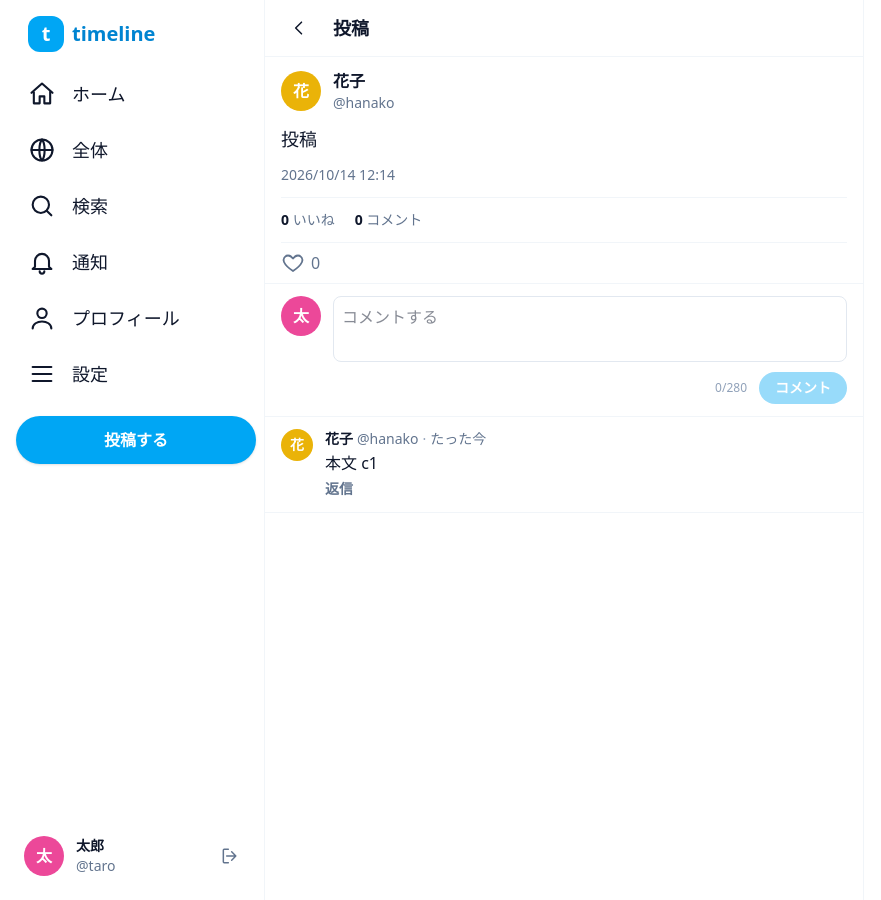
it: コメント › コメントと返信を送ると、送った内容でコメント欄を取り直す
Type "  はじめまして  " into the text box named "コメントの本文". click: (590, 329)
box: [333,296,847,362]
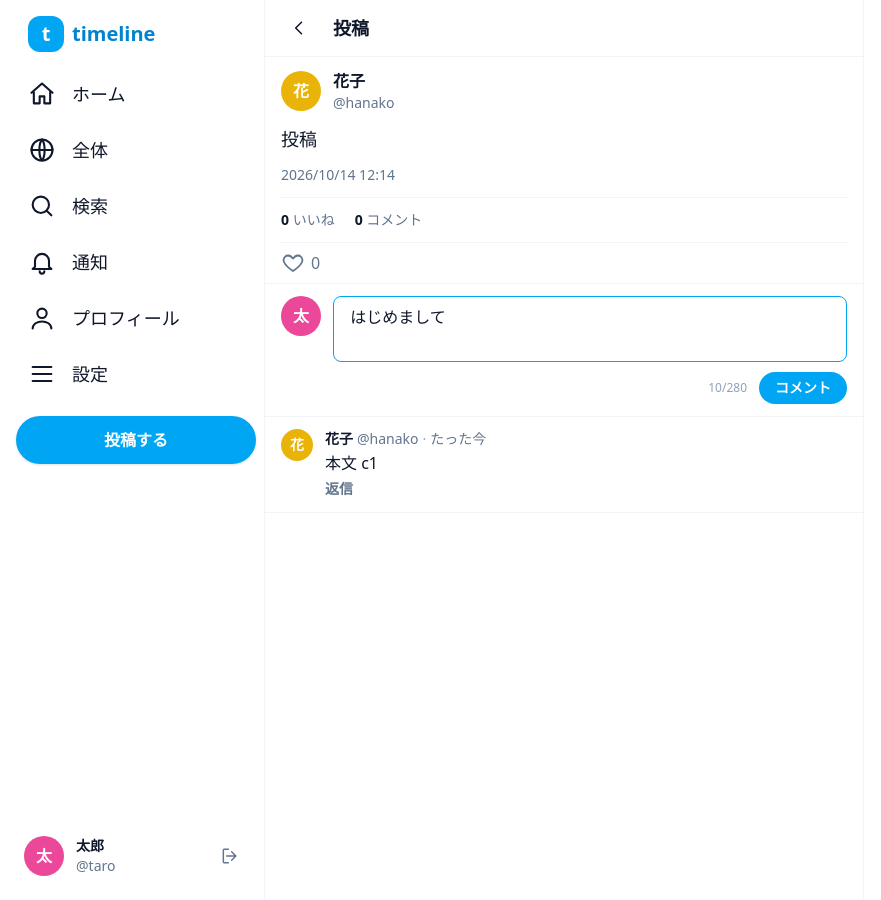
Click the button "コメント". click: (803, 388)
box: [759,372,847,404]
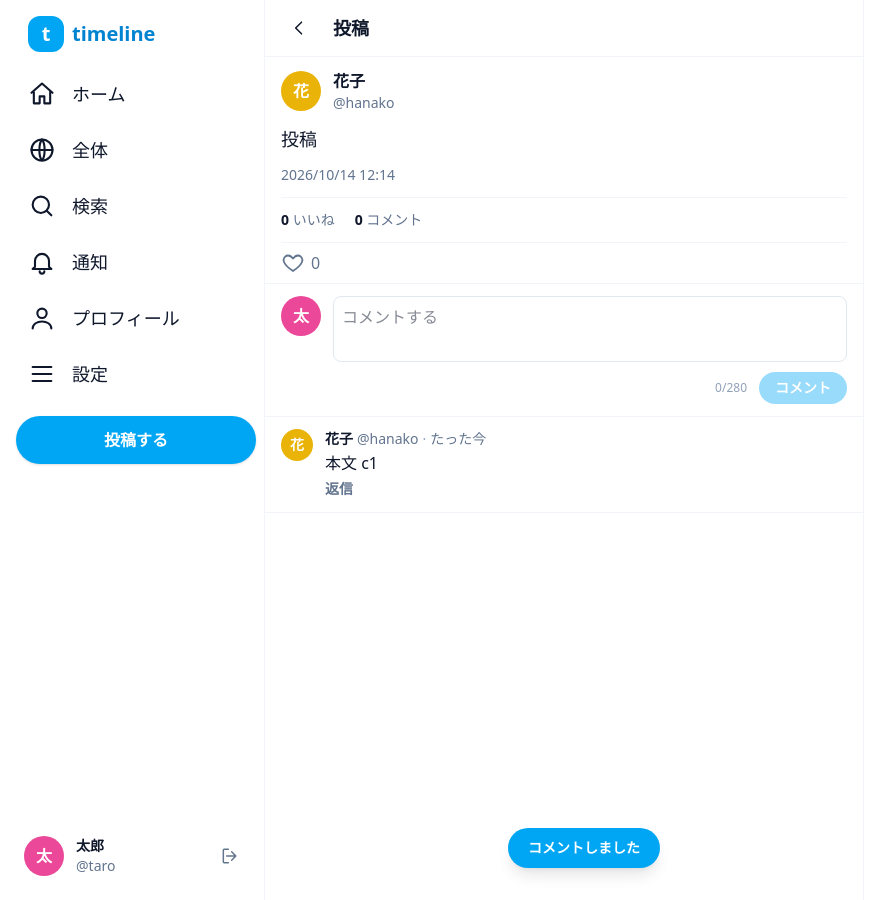
Now the text "コメントしました" is shown, box [508,828,660,868]
Click the button "返信". click: (339, 489)
box: [325,479,353,499]
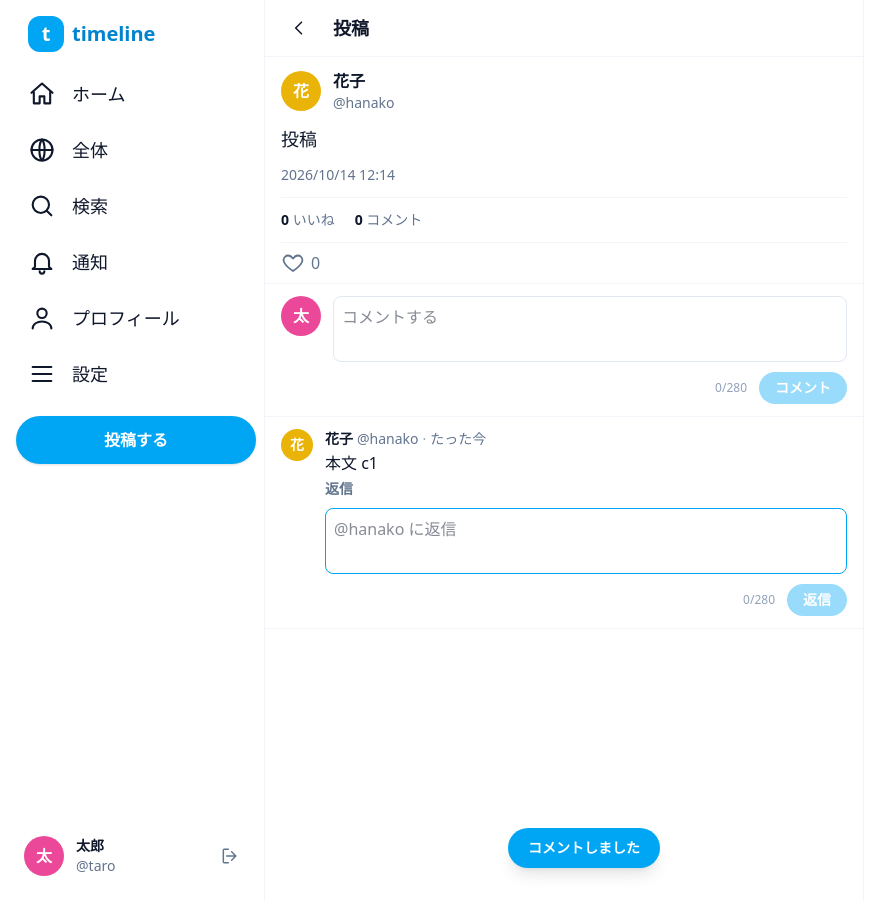
Type "よろしく" into the text box named "返信の本文". click: (586, 541)
box: [325,508,847,574]
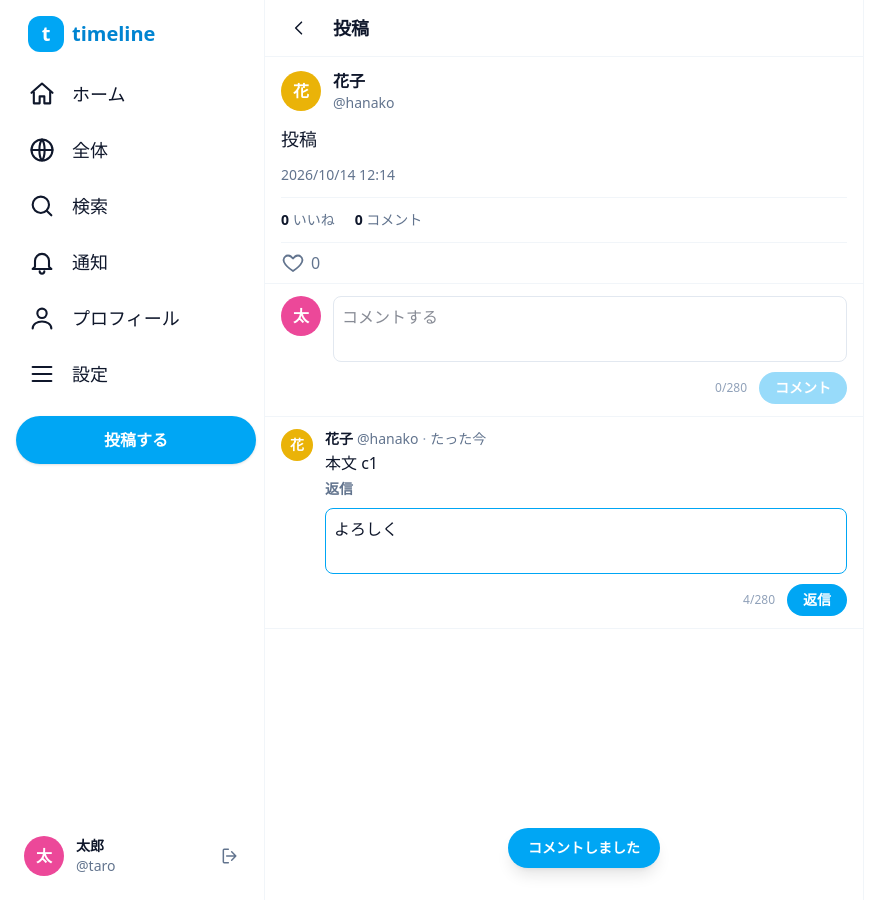
Click the 2nd button "返信". click: (817, 600)
box: [787,584,847,616]
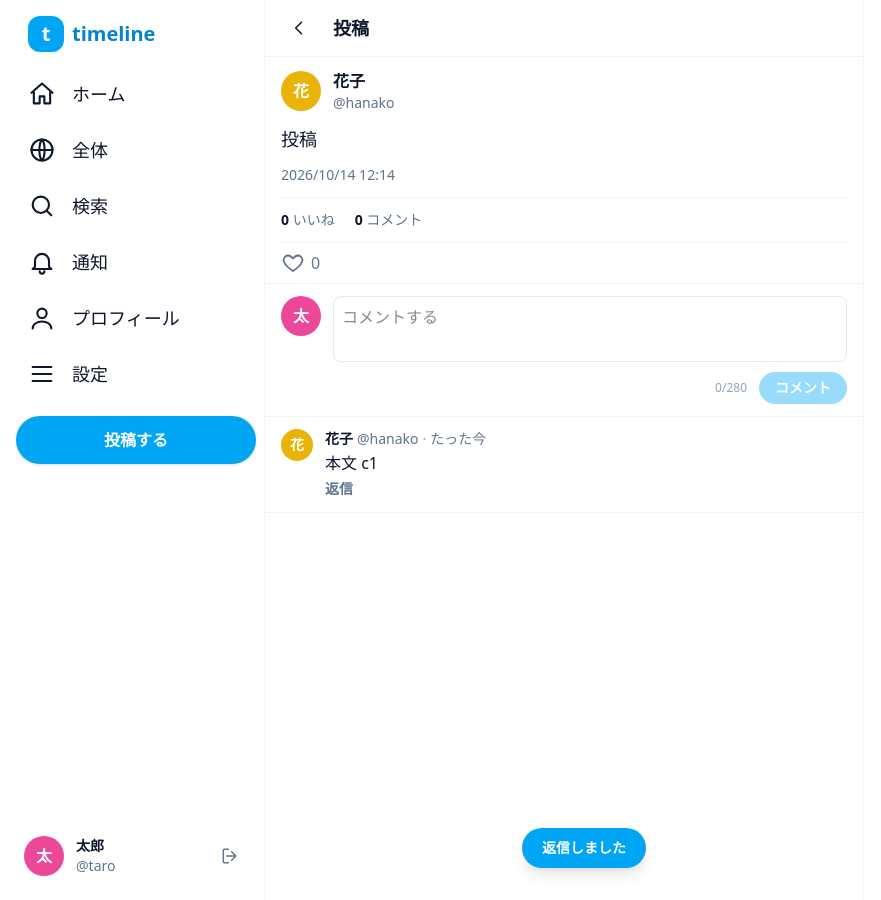
Now the text "返信しました" is shown, box [522,828,646,868]
